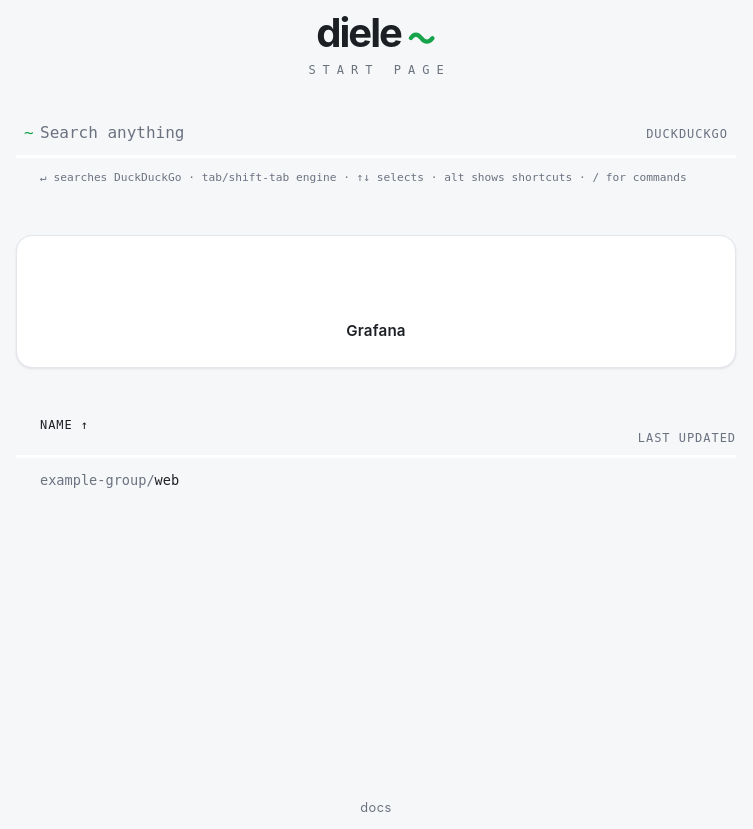
searching › says what a term with no matches would search
Check: the link "Grafana" is shown, box [16, 235, 736, 368]
Type "zzznothing" into the dropdown with placeholder "Search anything" at point(335, 132), box [40, 123, 630, 142]
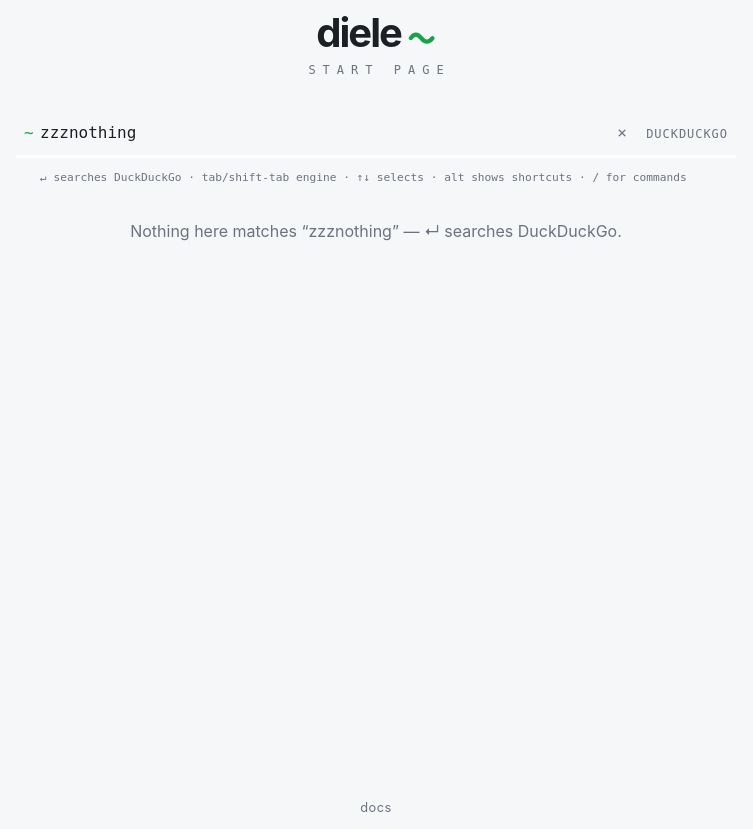
Check: the text "Nothing here matches “zzznothing” — ↵ searches DuckDuckGo." is shown, box [130, 219, 622, 243]
